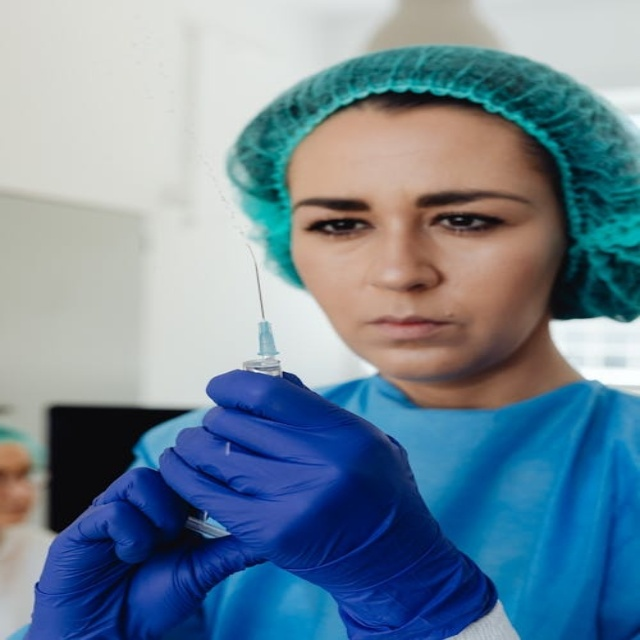Guantes: (151, 358, 503, 634), (24, 460, 245, 639)
Sin_gafas: (291, 182, 538, 251)
Sin_mascara: (340, 298, 479, 355)
